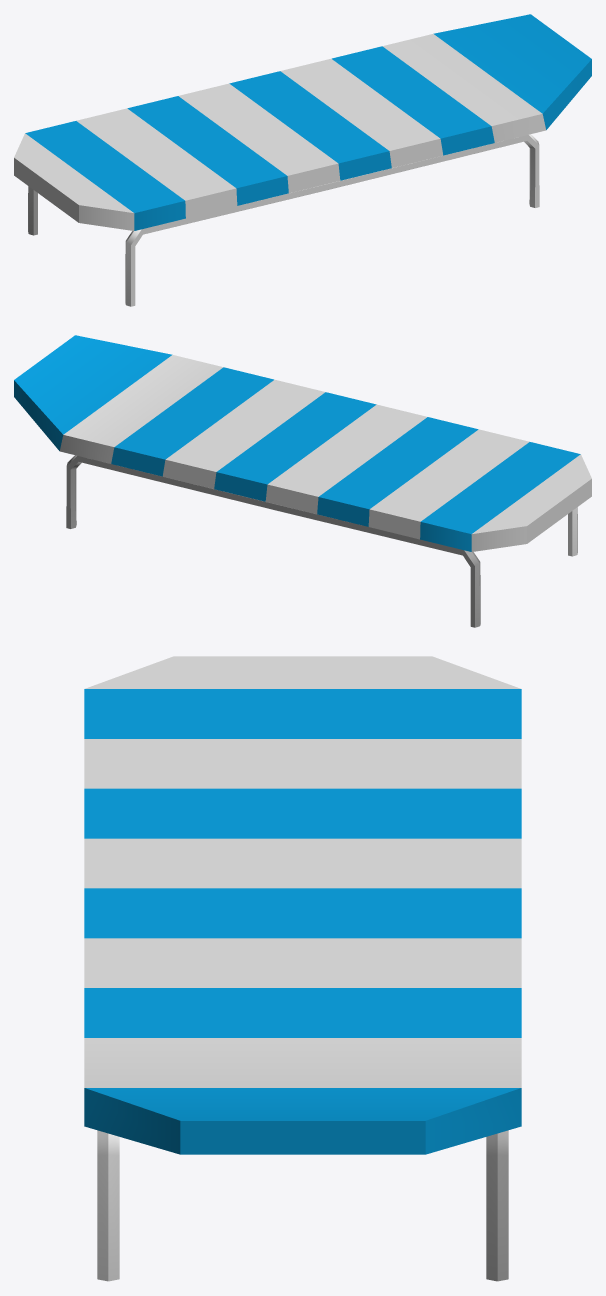
The model's file is sunbed.fbx.
3 renders of one model, top to bottom at view 1: azimuth 30°, elevation 25°; view 2: azimuth 150°, elevation 25°; view 3: azimuth 270°, elevation 25°, orthographic. The views are drawn at different scales.
Parts seen in each view (by area): view 1: pCylinder10; view 2: pCylinder10; view 3: pCylinder10.
Boxes of the visible parts, box(x1,y1,x2,y2) form: pCylinder10: box(14, 14, 591, 306); pCylinder10: box(14, 335, 591, 627); pCylinder10: box(84, 656, 521, 1281).
Size of the model in its own units: 55 by 11.73 by 20.22.
